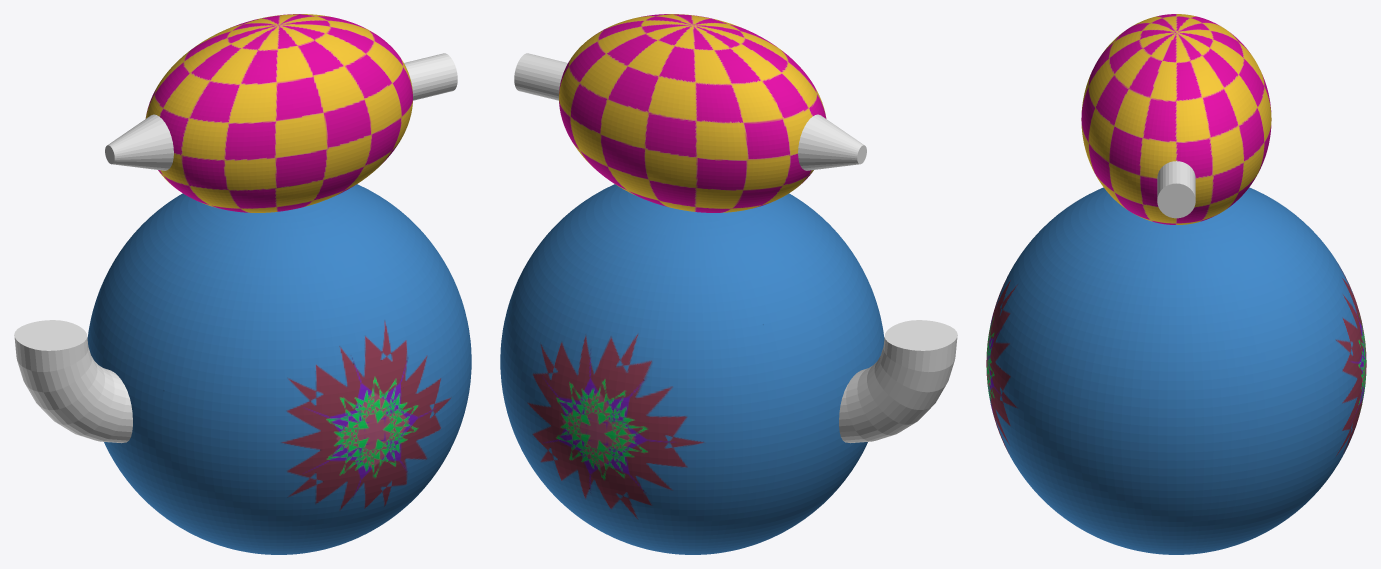
File: BOD0_BMC8_BCC5_BPT0_FRC12_HEA1_HMC10_HCC6_HPT4_ELT2_ERT1_ELL1_ERL2_AP1_AAL1_AAR2_BEK0.fbx
3 views of the same model, side by side, from view 1: azimuth 30°, elevation 25°; view 2: azimuth 150°, elevation 25°; view 3: azimuth 270°, elevation 25° (orthographic).
Parts seen in each view (by area): view 1: Body, Arm, Ear, Ear.001; view 2: Body, Arm, Ear, Ear.001; view 3: Body, Ear.001.
Boxes of the visible parts, x1,y1,x2,y2 form: Body: [87, 14, 471, 554]; Arm: [14, 320, 132, 443]; Ear: [105, 114, 173, 170]; Ear.001: [404, 53, 457, 100]; Body: [500, 14, 884, 554]; Arm: [839, 320, 957, 443]; Ear: [798, 114, 866, 170]; Ear.001: [514, 53, 567, 100]; Body: [986, 14, 1366, 554]; Ear.001: [1157, 161, 1195, 218].
Size of the model in its own units: 63.31 by 72.41 by 49.36.
Materials: 1 (1 with a texture image).
